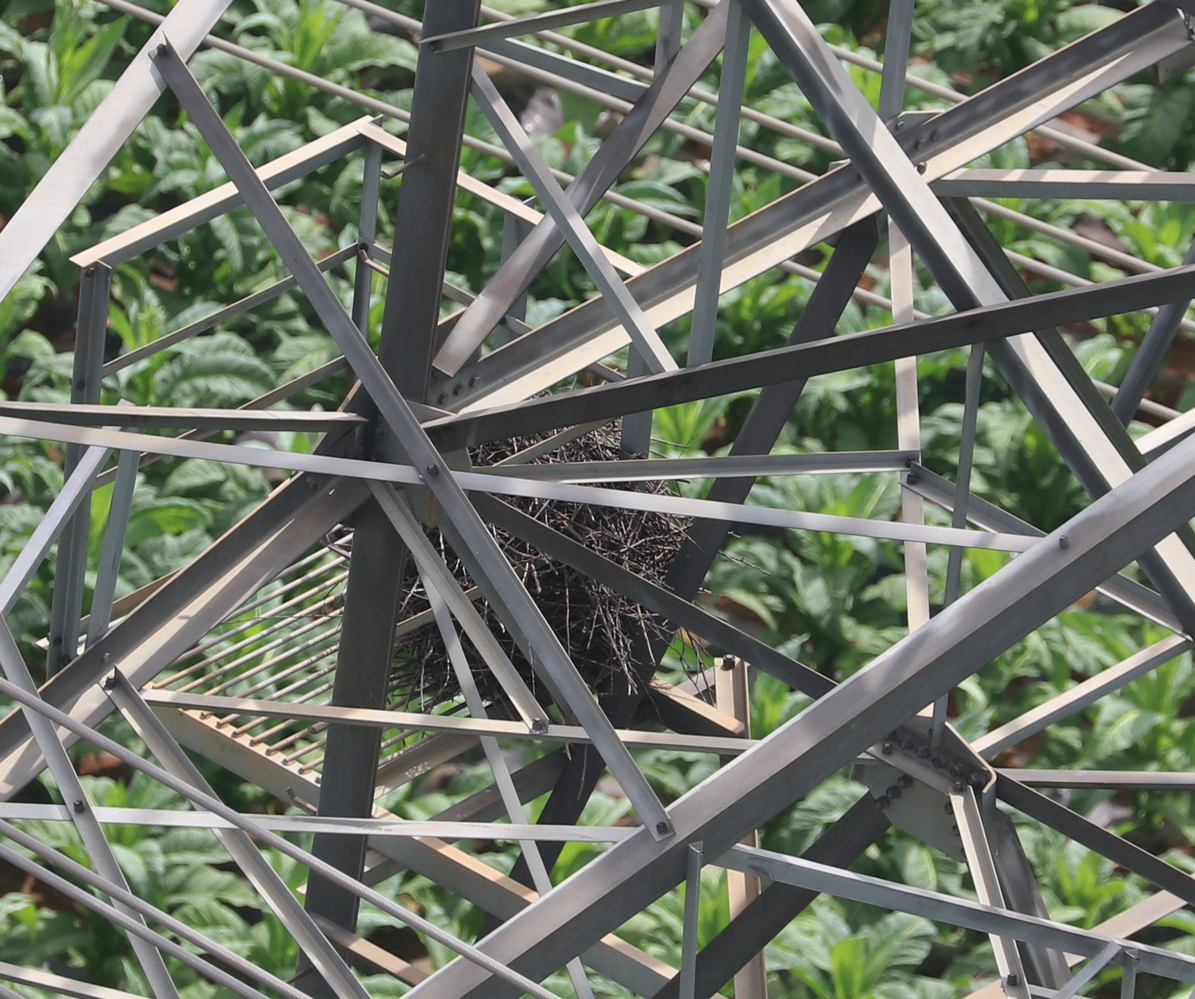nest: (414, 398, 678, 674)
